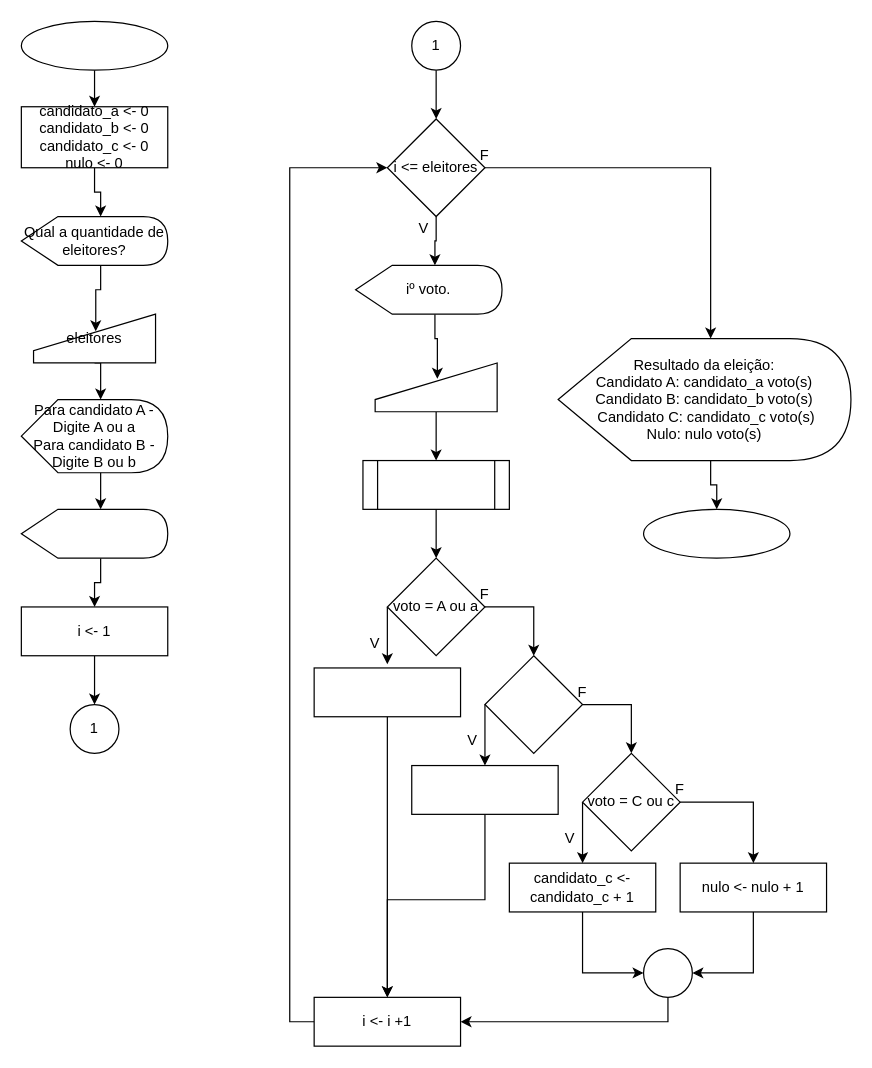
This 872x1068 diagram has some shape labels left out. The shapes that lost their labels are listed below. From the top down, each one's box as (x1, y1, x2, y2) in pixels, then its label:
(20, 20, 168, 70): Início
(374, 362, 497, 412): voto
(362, 459, 509, 509): toupper( voto )
(20, 508, 168, 558): Para candidato C - Digite C ou c Para nulo - Digite 0
(642, 508, 790, 558): Fim
(313, 667, 461, 717): candidato_a <- candidato_a + 1
(484, 655, 583, 753): voto = B ou b
(411, 764, 558, 814): candidato_b <- candidato_b + 1
